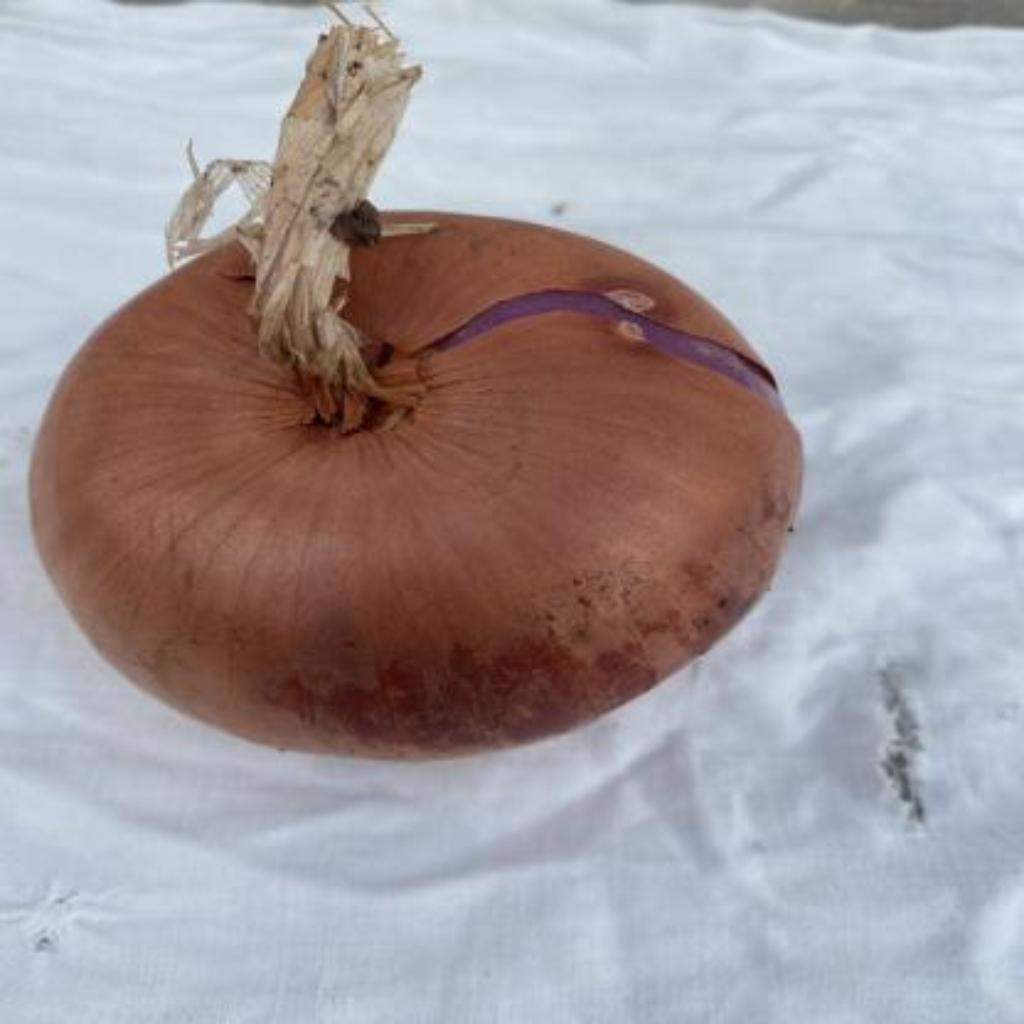Onion: (30, 20, 805, 759)
